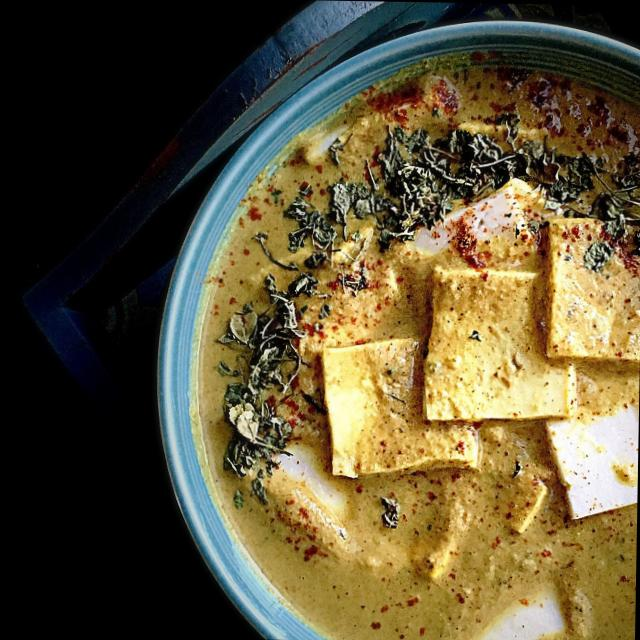ShahiPaneer: (185, 52, 640, 640)
